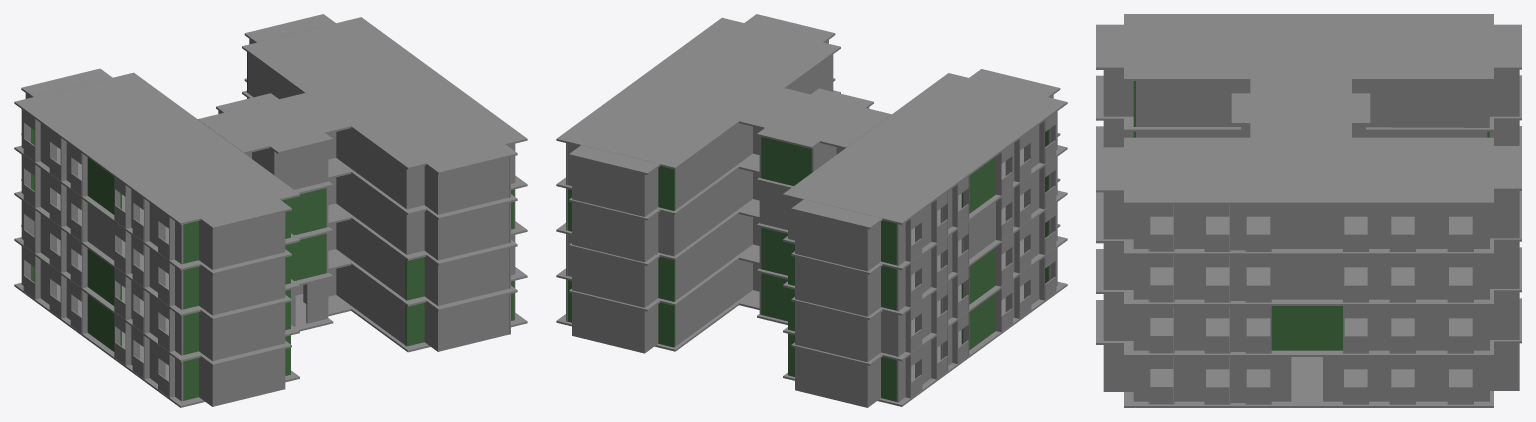
Rendered from Boys Hostel.glb.
The picture shows the model from 3 angles, left to right: view 1: azimuth 30°, elevation 25°; view 2: azimuth 150°, elevation 25°; view 3: azimuth 270°, elevation 25°; orthographic projection. The views are drawn at different scales.
Parts seen in each view (by area): view 1: pCube958, pCube923, pCube936, pCube484, pCube379, pCube929, pCube693, pCube401, pCube639, pCube753, pCube989, pCube169 (+75 smaller); view 2: pCube958, pCube923, pCube936, pCube171, pCube525, pCube1136, pCube900, pCube476, pCube365, pCube940, pCube704, pCube537 (+65 smaller); view 3: pCube923, pCube958, pCube936, pCube152, pCube914, pCube687, pCube186, pCube446, pCube959, pCube500, pCube756, pCube992 (+73 smaller).
Part boxes in pixels (x1,y1,x2,y2): pCube958: (14,72,299,225); pCube923: (242,17,527,169); pCube936: (198,93,351,153); pCube484: (214,303,283,360); pCube379: (214,349,283,406); pCube929: (214,212,283,269); pCube693: (214,258,283,314); pCube401: (440,294,508,351); pCube639: (440,248,508,305); pCube753: (440,203,508,259); pCube989: (440,157,508,214); pCube169: (336,265,405,345); pCube958: (783,73,1067,224); pCube923: (556,17,840,169); pCube936: (739,88,891,148); pCube171: (675,259,752,346); pCube525: (675,214,752,300); pCube1136: (675,123,752,209); pCube900: (675,168,752,255); pCube476: (796,302,865,361); pCube365: (796,348,865,407); pCube940: (796,211,865,270); pCube704: (796,257,865,316); pCube537: (574,248,642,307); pCube923: (1124,137,1493,204); pCube958: (1124,14,1493,80); pCube936: (1231,79,1370,137); pCube152: (1124,357,1493,407); pCube914: (1352,81,1487,127); pCube687: (1124,205,1493,255); pCube186: (1124,306,1493,356); pCube446: (1124,255,1493,305); pCube959: (1136,81,1250,126); pCube500: (1271,306,1344,350); pCube756: (1271,255,1344,299); pCube992: (1271,204,1344,248).
Size of the model in its own units: 1.93 by 0.9827 by 1.85.
